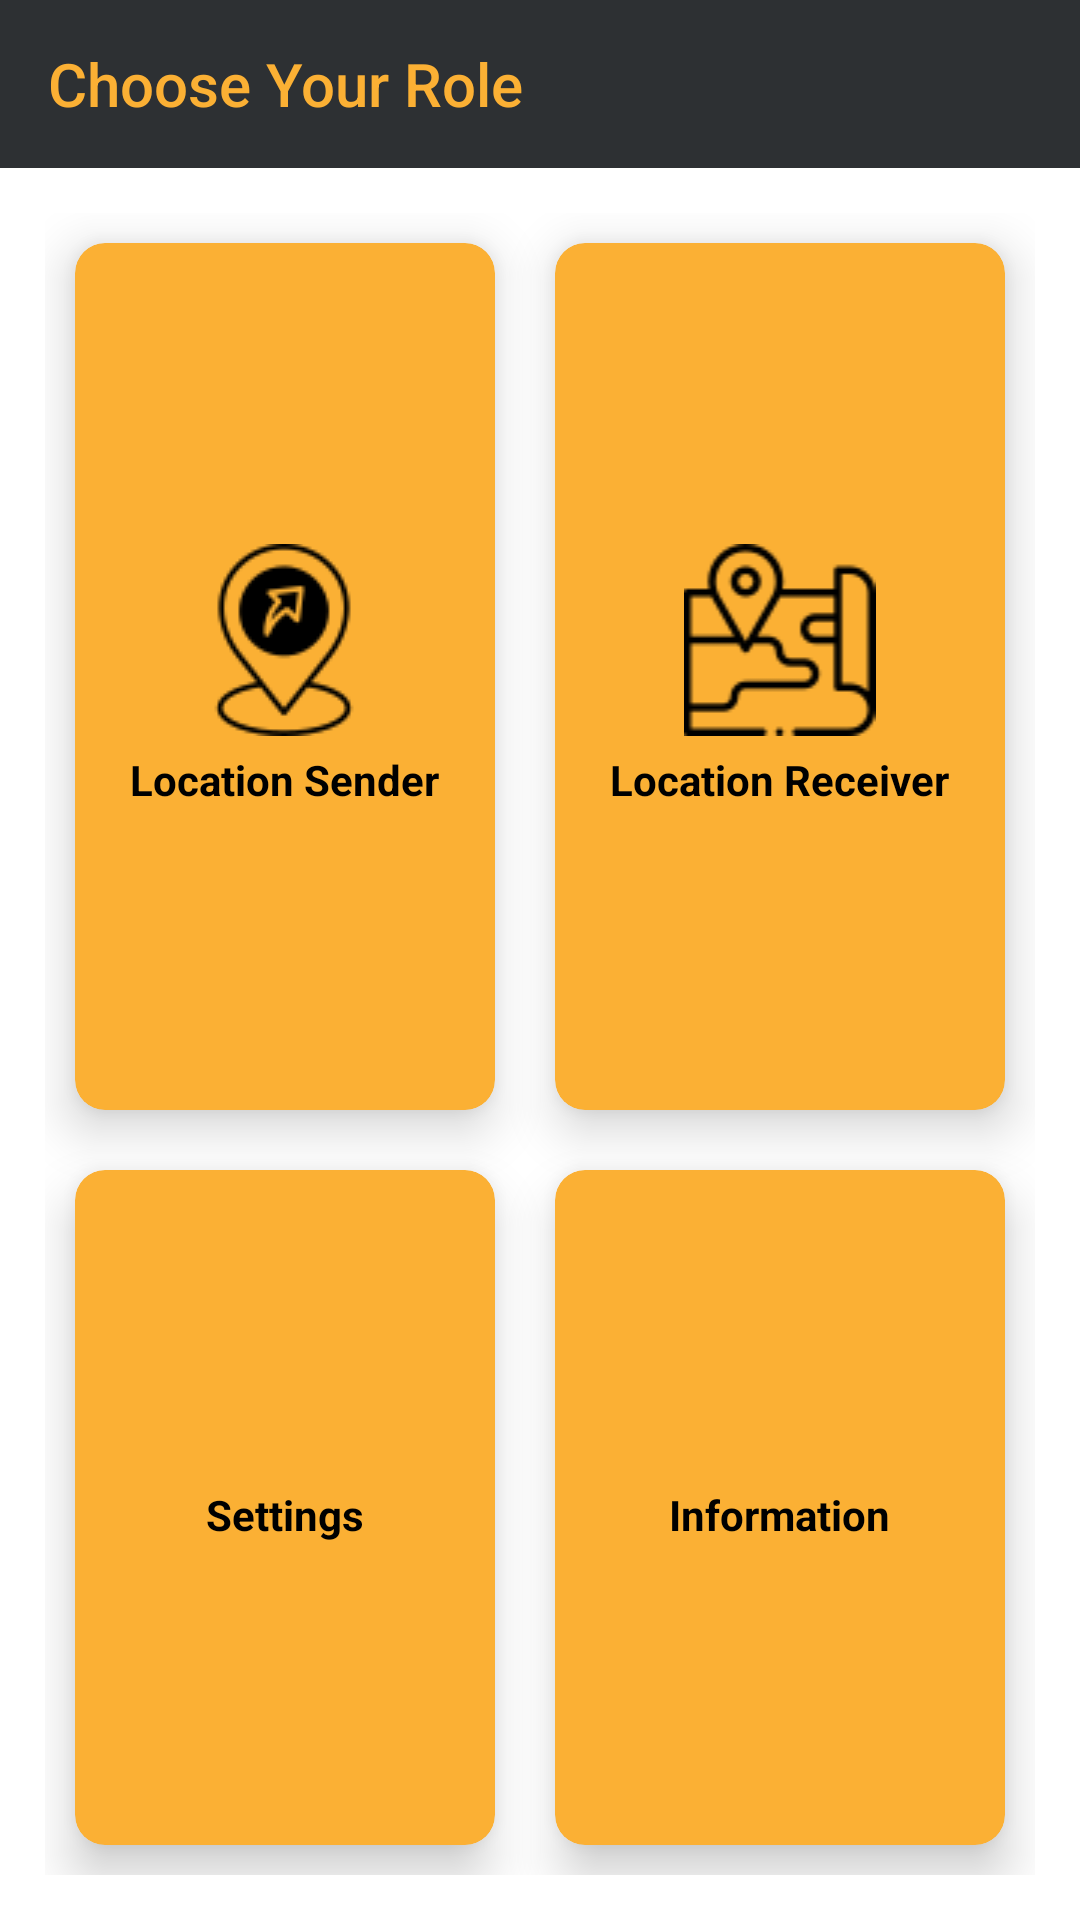

Where to tap for icons on this 1080*1920 app screen, as (x,y):
map: (780,640)
